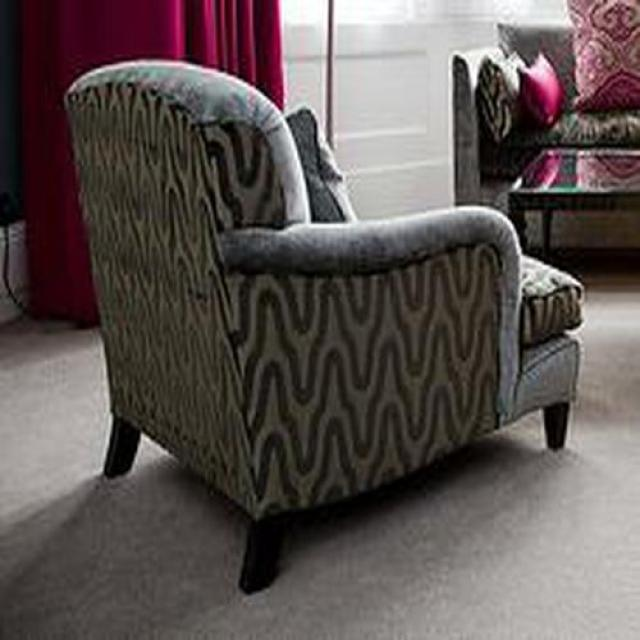sofa: (61, 60, 585, 595)
